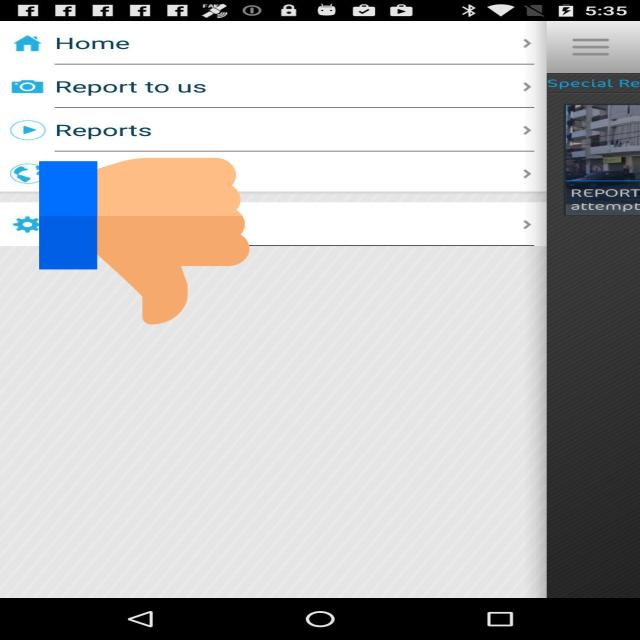obstruction: (39, 154, 250, 328)
